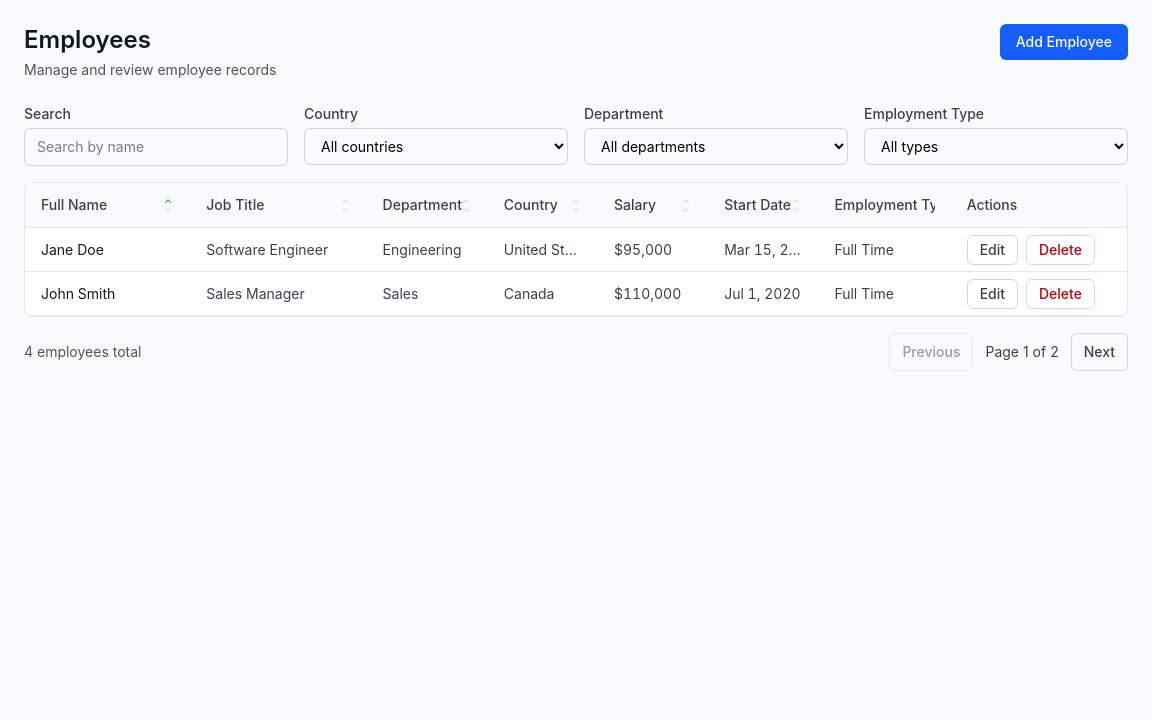
EmployeeList › closes confirmation dialog when cancel is clicked
The width and height of the screenshot is (1152, 720).
Check: the cell "Jane Doe" is shown, box [25,228,190,272]
Step 1. Click the button "Delete" in the row of "Jane Doe" → (1060,250), box [1026,234,1095,264]
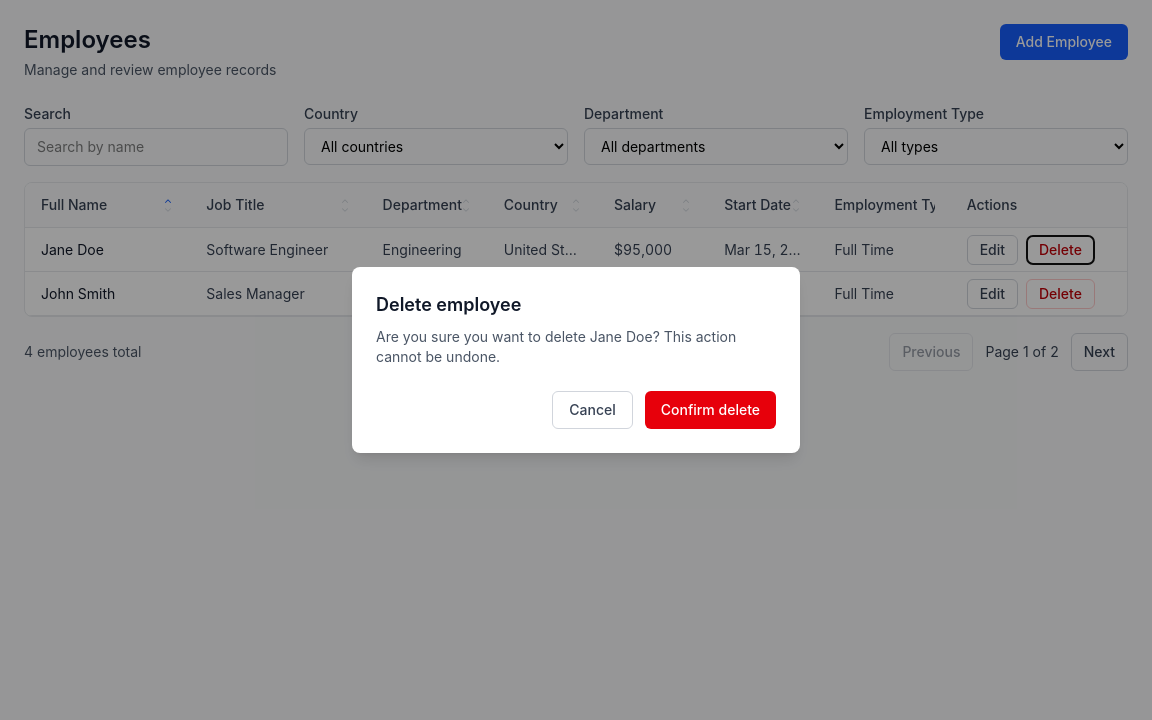
Step 2. Click the button "Cancel" → (593,410), box [552,391,633,429]
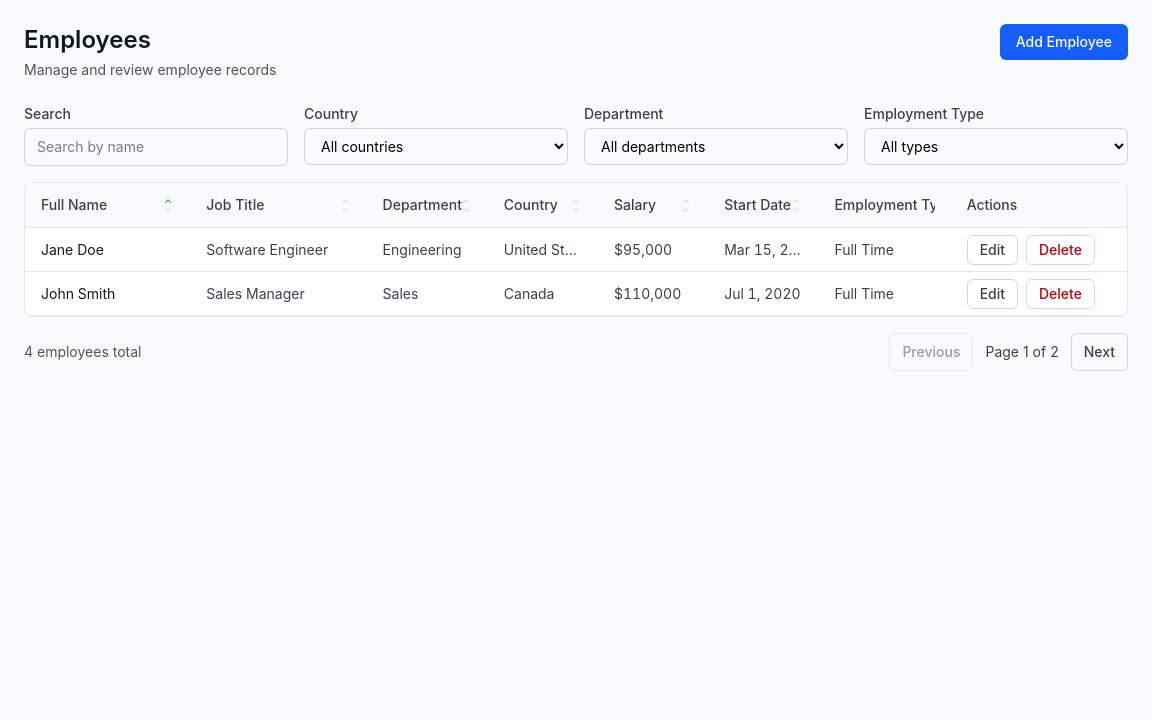
Check: the cell "Jane Doe" is shown, box [25,228,190,272]
Check: the dialog is gone
